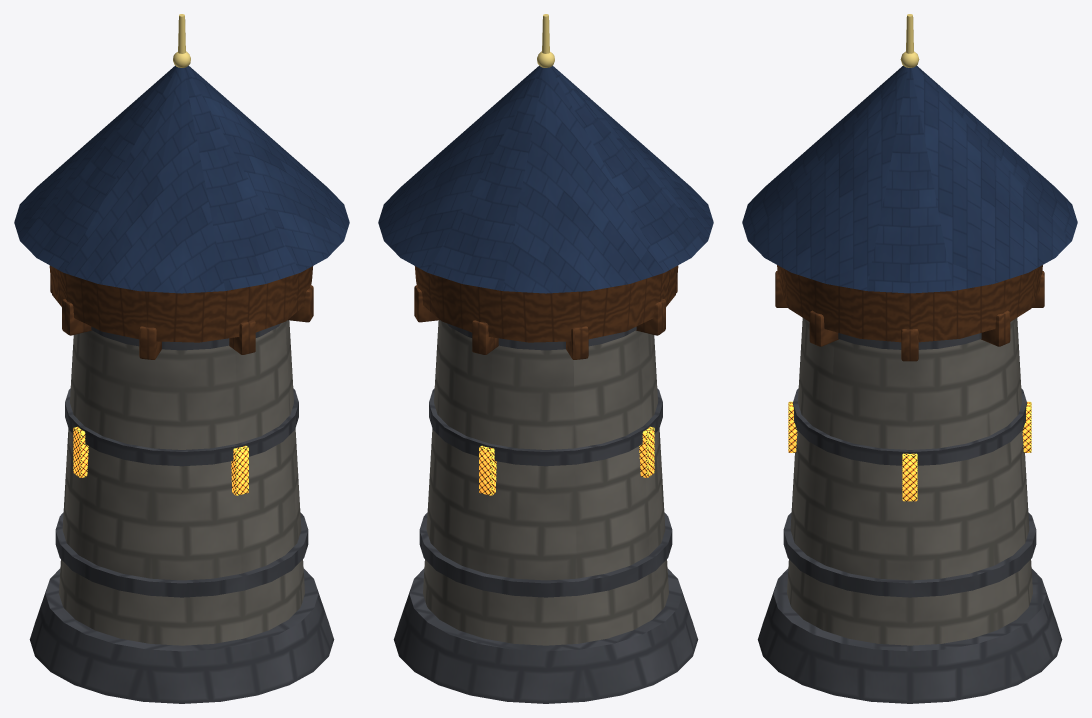
Rendered from building_tower.glb.
3 renders of one model, left to right at view 1: azimuth 30°, elevation 25°; view 2: azimuth 150°, elevation 25°; view 3: azimuth 270°, elevation 25°, orthographic.
Parts seen in each view (by area): view 1: building_tower; view 2: building_tower; view 3: building_tower.
Part boxes in pixels (<box>): building_tower: <box>14,14,349,703</box>; building_tower: <box>378,14,713,703</box>; building_tower: <box>742,14,1077,703</box>.
Bounding box in the file's own units: 4.3 × 8.82 × 4.3.
6 materials, 5 textured.
